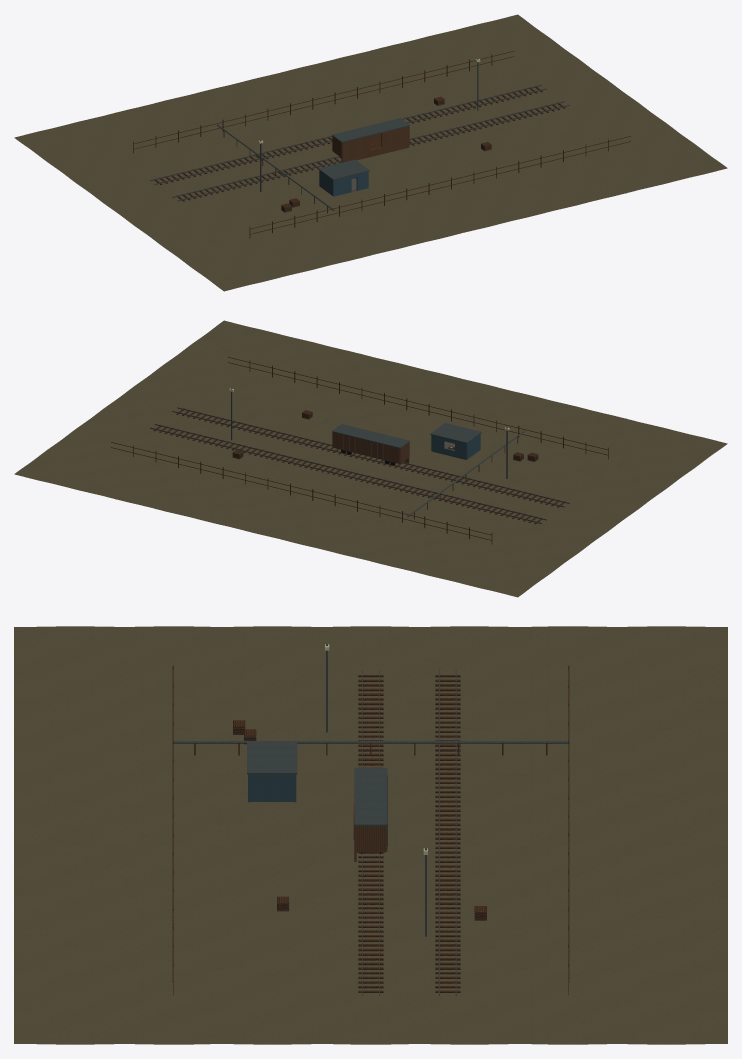
File: freight-yard.glb
The picture shows the model from 3 angles, top to bottom: view 1: azimuth 30°, elevation 25°; view 2: azimuth 150°, elevation 25°; view 3: azimuth 270°, elevation 25°; orthographic projection. The views are drawn at different scales.
Parts seen in each view (by area): view 1: Ground.3.008, Ground.0.011, Ground.2.008, Ground.1.008, Ground.0.008, Ground.2.011, Ground.1.011, Ground.3.011, Ground.3.009, Ground.0.009, Ground.0.010, Ground.3.010 (+11 smaller); view 2: Ground.3.011, Ground.0.008, Ground.2.011, Ground.1.011, Ground.0.011, Ground.3.008, Ground.2.008, Ground.0.009, Ground.1.008, Ground.3.009, Ground.0.010, Ground.3.010 (+11 smaller); view 3: Ground.2.008, Ground.2.011, Ground.0.008, Ground.0.011, Ground.3.008, Ground.3.011, Ground.1.008, Ground.1.011, Ground.3.009, Ground.0.009, Ground.3.010, Ground.0.010 (+8 smaller).
Boxes of the visible parts, x1=… form: Ground.3.008: x1=550, y1=130, x2=727, y2=198; Ground.0.011: x1=14, y1=107, x2=191, y2=175; Ground.2.008: x1=424, y1=161, x2=601, y2=229; Ground.1.008: x1=298, y1=191, x2=475, y2=260; Ground.0.008: x1=172, y1=222, x2=349, y2=291; Ground.2.011: x1=266, y1=45, x2=443, y2=114; Ground.1.011: x1=140, y1=76, x2=317, y2=144; Ground.3.011: x1=392, y1=14, x2=569, y2=83; Ground.3.009: x1=498, y1=91, x2=674, y2=160; Ground.0.009: x1=119, y1=183, x2=296, y2=252; Ground.0.010: x1=67, y1=145, x2=244, y2=214; Ground.3.010: x1=445, y1=53, x2=622, y2=122; Ground.3.011: x1=14, y1=436, x2=191, y2=504; Ground.0.008: x1=550, y1=413, x2=727, y2=481; Ground.2.011: x1=140, y1=467, x2=317, y2=535; Ground.1.011: x1=266, y1=497, x2=443, y2=566; Ground.0.011: x1=392, y1=528, x2=569, y2=597; Ground.3.008: x1=172, y1=320, x2=349, y2=389; Ground.2.008: x1=298, y1=351, x2=475, y2=420; Ground.0.009: x1=497, y1=451, x2=674, y2=520; Ground.1.008: x1=424, y1=382, x2=601, y2=450; Ground.3.009: x1=119, y1=359, x2=296, y2=428; Ground.0.010: x1=445, y1=489, x2=622, y2=558; Ground.3.010: x1=67, y1=397, x2=243, y2=466; Ground.2.008: x1=14, y1=835, x2=192, y2=940; Ground.2.011: x1=549, y1=835, x2=727, y2=940; Ground.0.008: x1=14, y1=626, x2=192, y2=731; Ground.0.011: x1=549, y1=626, x2=727, y2=731; Ground.3.008: x1=14, y1=939, x2=192, y2=1044; Ground.3.011: x1=549, y1=939, x2=727, y2=1044; Ground.1.008: x1=14, y1=730, x2=192, y2=835; Ground.1.011: x1=549, y1=730, x2=727, y2=835; Ground.3.009: x1=192, y1=939, x2=370, y2=1044; Ground.0.009: x1=192, y1=626, x2=370, y2=731; Ground.3.010: x1=371, y1=939, x2=549, y2=1044; Ground.0.010: x1=371, y1=626, x2=549, y2=731.
Bounding box in the file's own units: 90 × 8.96 × 65.
8 materials, 8 textured.
